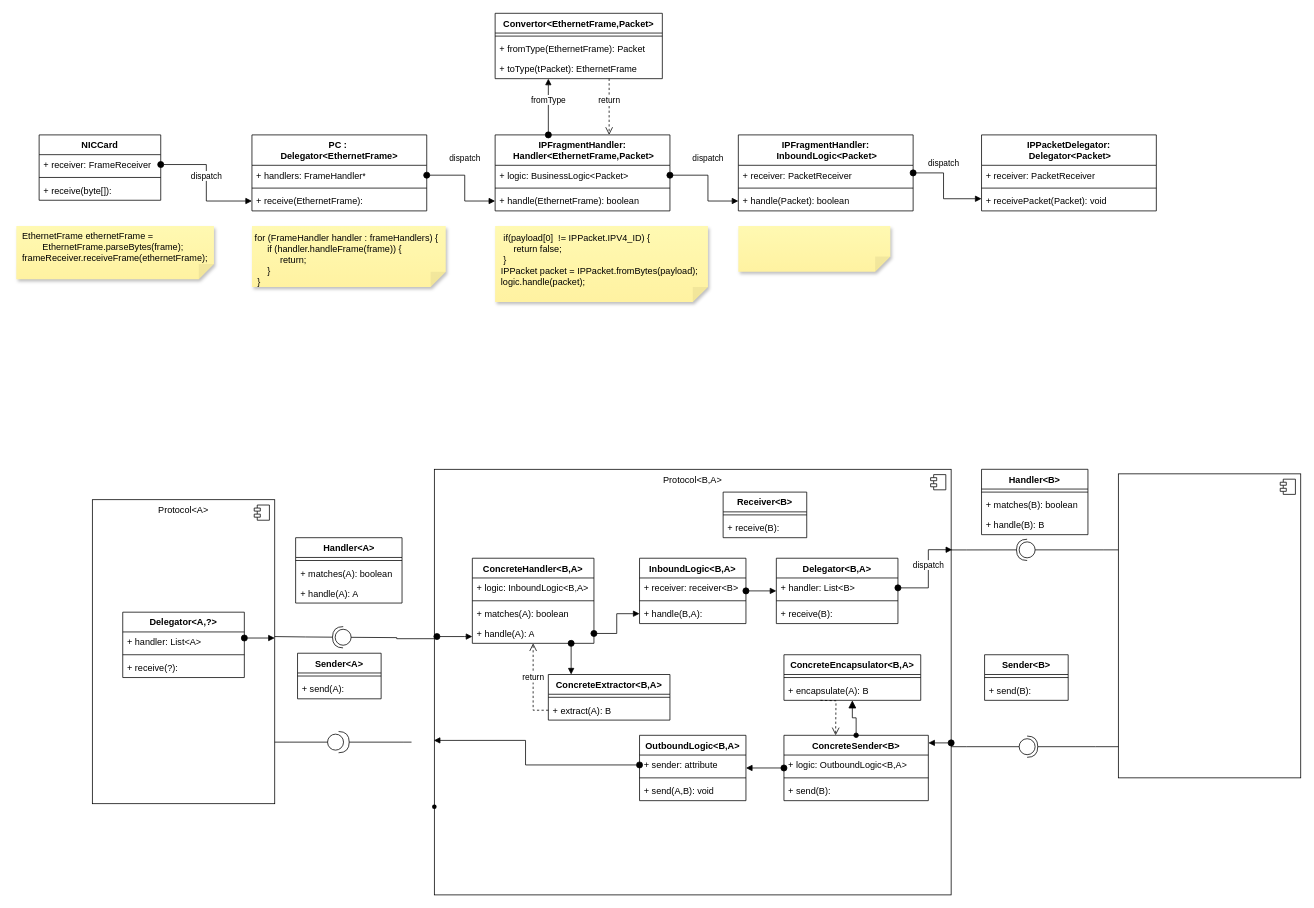
This 1314x908 diagram has some shape labels left out. The centre of each missing label's shape, as x and y in pixels:
// Fragment recombination receiver.receivePacket(packet);: (x=815, y=250)
Protocol<C>: (x=1209, y=625)
